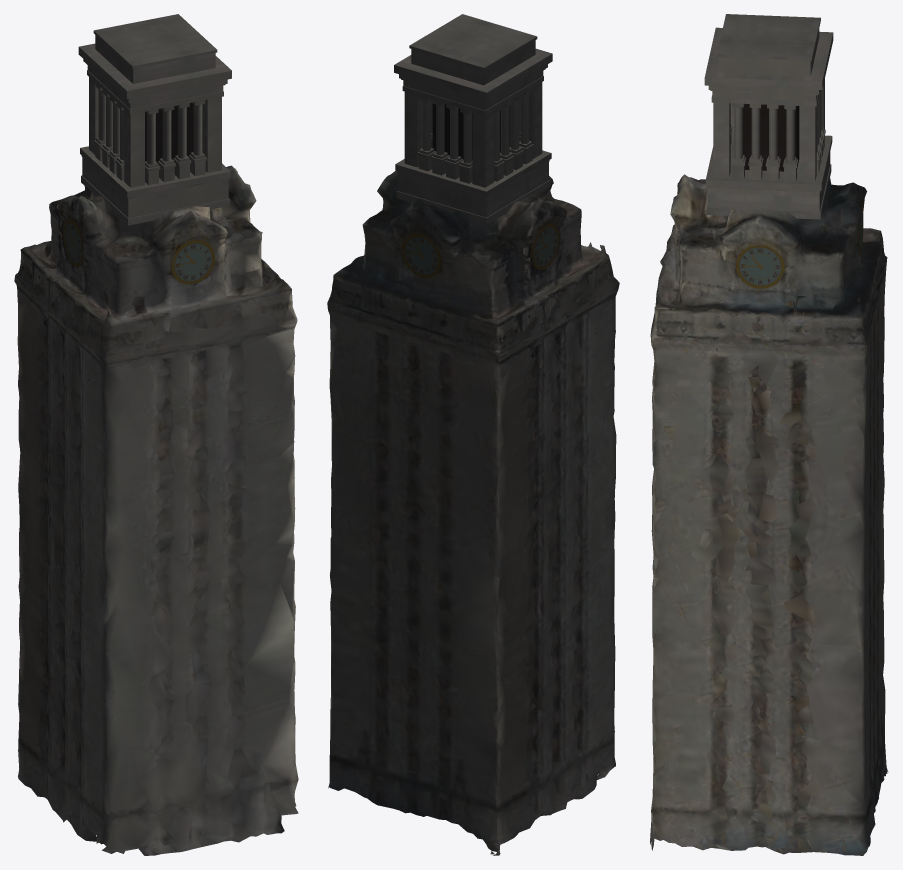
The model's file is ut-tower-far.glb.
3 views of the same model, side by side, from view 1: azimuth 30°, elevation 25°; view 2: azimuth 150°, elevation 25°; view 3: azimuth 270°, elevation 25° (orthographic). The views are drawn at different scales.
Parts seen in each view (by area): view 1: UT Tower scan far; view 2: UT Tower scan far; view 3: UT Tower scan far.
Boxes of the visible parts, <box> form: UT Tower scan far: <box>14,14,298,855</box>; UT Tower scan far: <box>327,14,619,855</box>; UT Tower scan far: <box>650,14,888,855</box>.
Size of the model in its own units: 20.07 by 72.73 by 20.21.
Materials: 2 (2 with a texture image).
